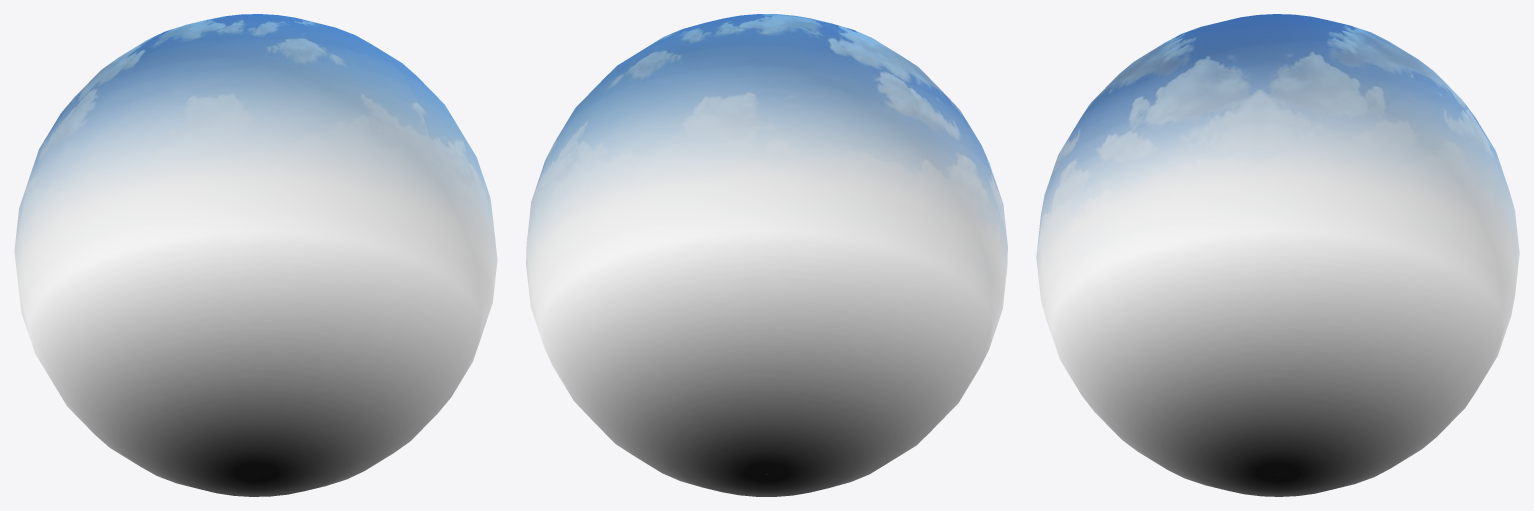
The model's file is sky-opt.glb.
The picture shows the model from 3 angles, left to right: view 1: azimuth 30°, elevation 25°; view 2: azimuth 150°, elevation 25°; view 3: azimuth 270°, elevation 25°; orthographic projection.
Parts seen in each view (by area): view 1: Sphere_2; view 2: Sphere_2; view 3: Sphere_2.
Boxes of the visible parts, x1,y1,x2,y2 form: Sphere_2: (14, 14, 497, 496); Sphere_2: (526, 14, 1007, 496); Sphere_2: (1036, 14, 1519, 496).
Bounding box in the file's own units: 2 × 2 × 2.
1 material, 1 textured.
